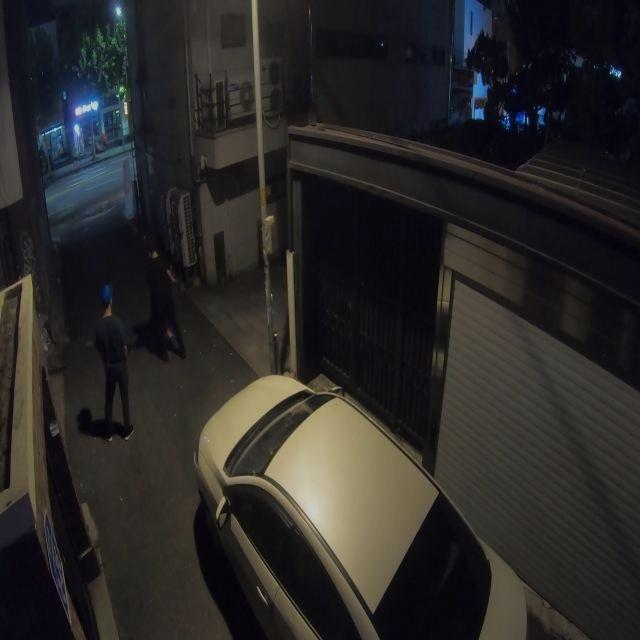fight: (132, 239, 195, 366)
non-fight: (84, 286, 138, 440)
